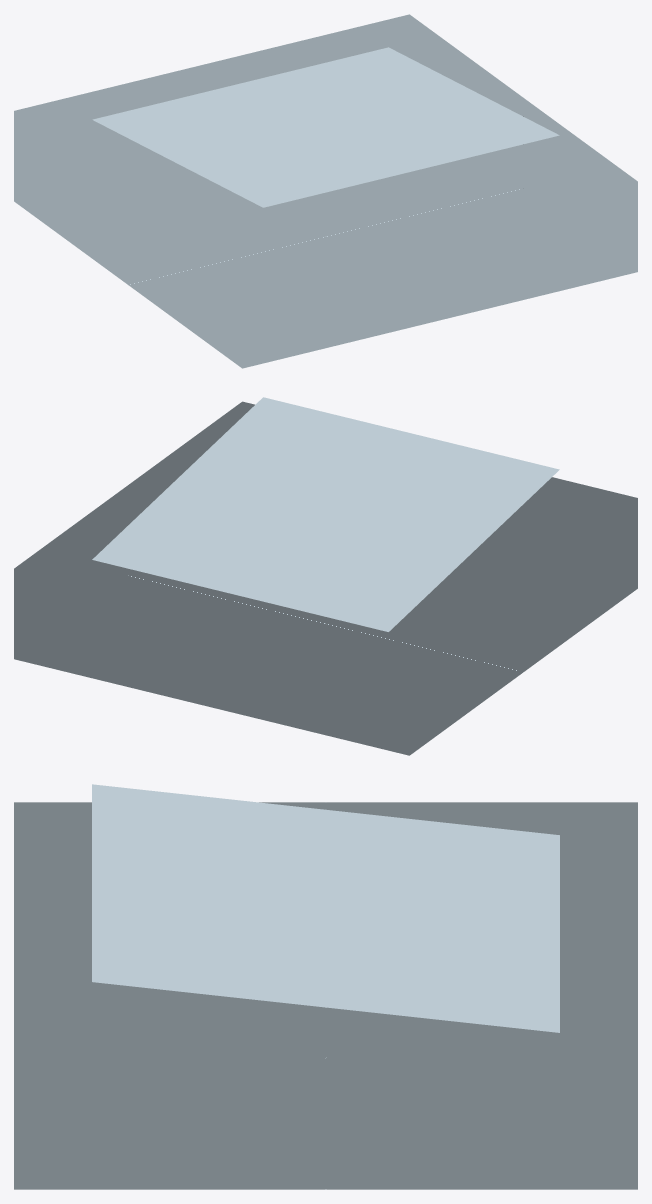
Rendered from trap_t16_env_hazard.glb.
The picture shows the model from 3 angles, top to bottom: view 1: azimuth 30°, elevation 25°; view 2: azimuth 150°, elevation 25°; view 3: azimuth 270°, elevation 25°; orthographic projection. The views are drawn at different scales.
Visible parts, largest first — view 1: trap_t16_env_hazard; view 2: trap_t16_env_hazard; view 3: trap_t16_env_hazard.
Boxes of the visible parts, box(x1,y1,x2,y2) form: trap_t16_env_hazard: box(14, 14, 637, 368); trap_t16_env_hazard: box(14, 397, 637, 755); trap_t16_env_hazard: box(14, 784, 637, 1189).
Bounding box in the file's own units: 1.6 × 0.494 × 1.6.
